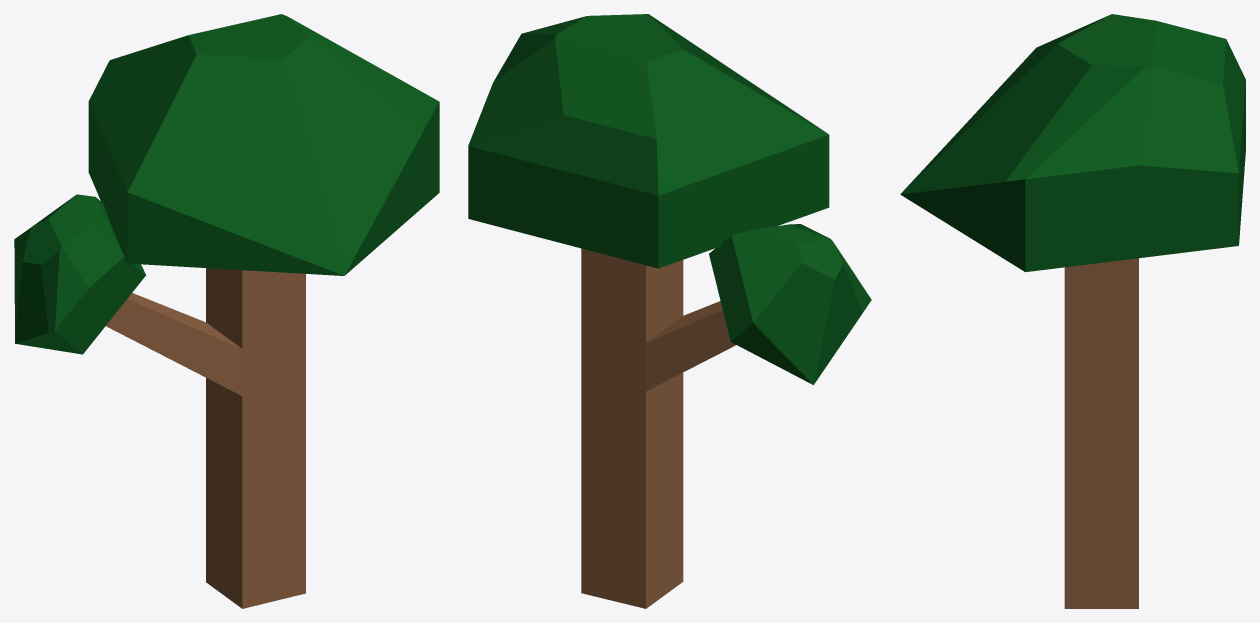
File: tree_44.glb
The picture shows the model from 3 angles, left to right: view 1: azimuth 30°, elevation 25°; view 2: azimuth 150°, elevation 25°; view 3: azimuth 270°, elevation 25°; orthographic projection. The views are drawn at different scales.
Visible parts, largest first — view 1: body; view 2: body; view 3: body.
Part boxes in pixels (x1,y1,x2,y2): body: [14, 14, 439, 608]; body: [468, 14, 871, 608]; body: [900, 14, 1245, 608].
Size of the model in its own units: 1.03 by 1.47 by 0.8344.
